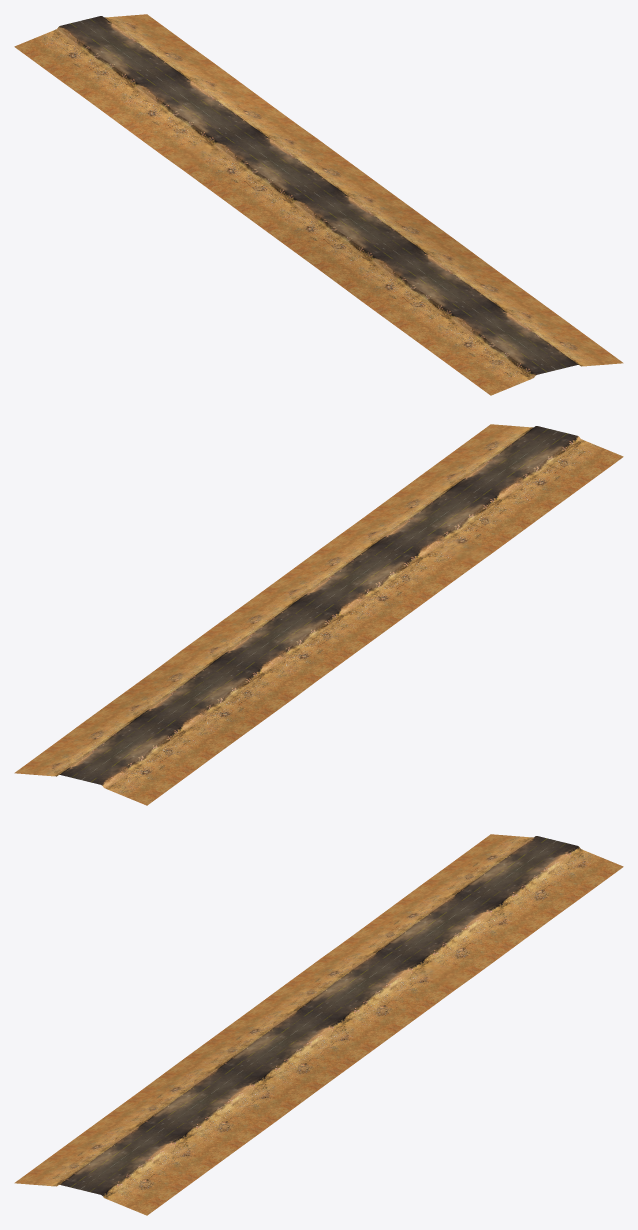
Rendered from Roadstright.FBX.
3 renders of one model, top to bottom at view 1: azimuth 30°, elevation 25°; view 2: azimuth 150°, elevation 25°; view 3: azimuth 330°, elevation 25°, orthographic.
Parts seen in each view (by area): view 1: road038; view 2: road038; view 3: road038.
Part boxes in pixels (bbox=[...]): road038: bbox=[14, 14, 623, 395]; road038: bbox=[14, 424, 623, 805]; road038: bbox=[14, 834, 623, 1215].
Bounding box in the file's own units: 691 × 49.71 × 4285.
